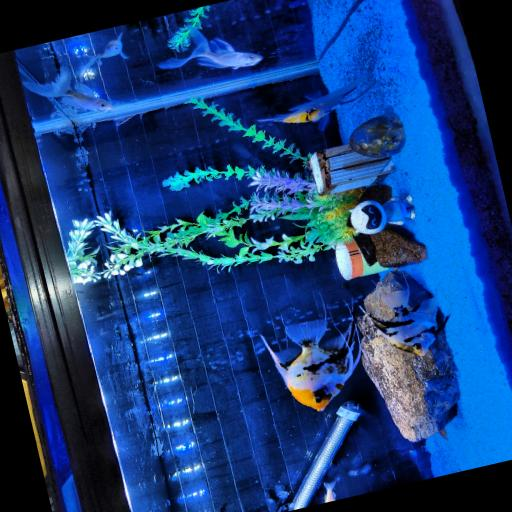Fish: (262, 320, 360, 411), (260, 73, 369, 130), (360, 288, 449, 355), (159, 26, 263, 69), (24, 69, 112, 111), (80, 33, 129, 76), (324, 481, 336, 501)
